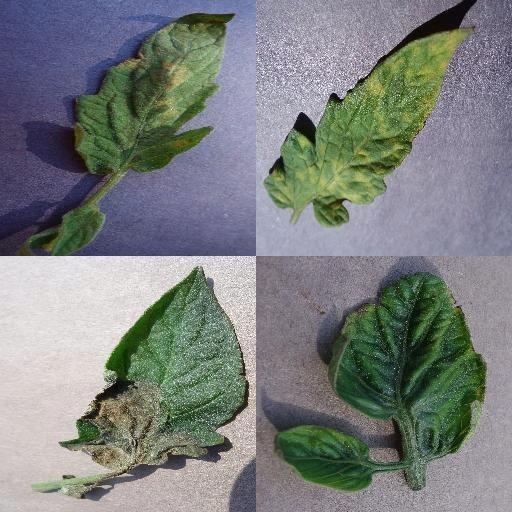Late Blight: (56, 263, 248, 473)
Leaf Mold: (265, 25, 477, 227), (74, 12, 236, 176)
Yellow Leaf Curl Virus: (330, 270, 487, 454), (274, 425, 376, 491)
